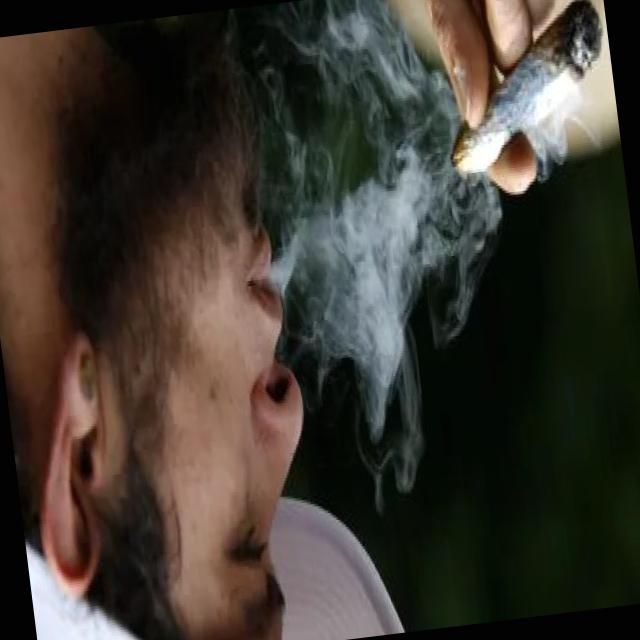smoke: (426, 0, 621, 191)
